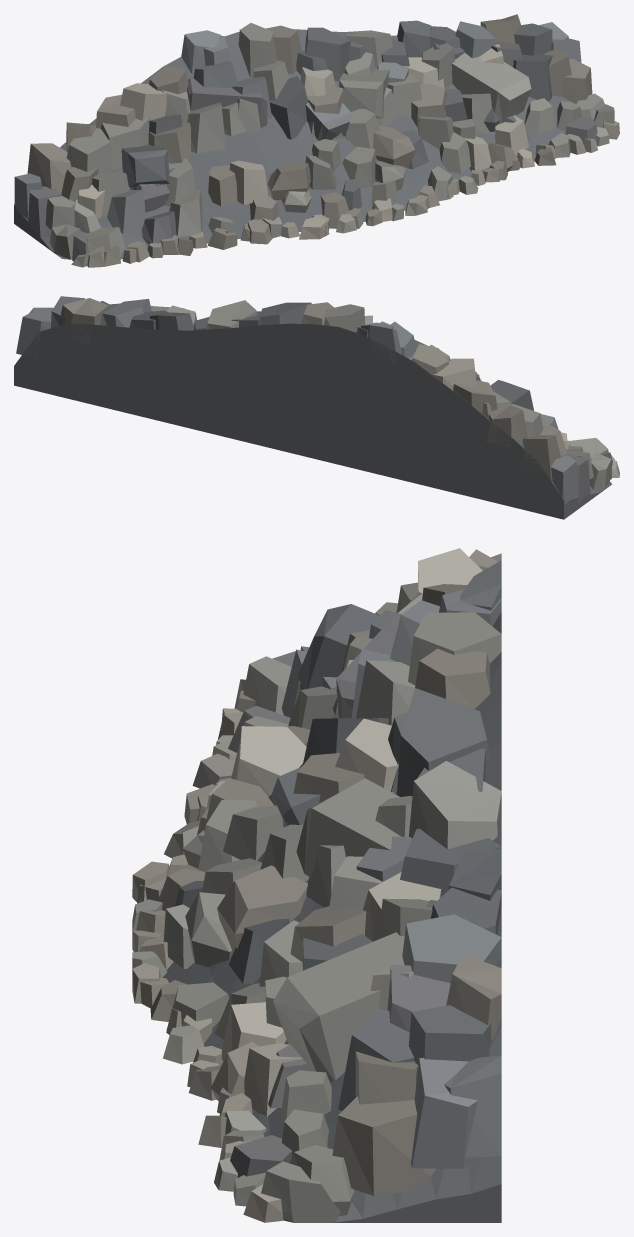
File: SM_LPD_Struct_RubbleHeapAgainst_01.fbx
3 renders of one model, top to bottom at view 1: azimuth 30°, elevation 25°; view 2: azimuth 150°, elevation 25°; view 3: azimuth 270°, elevation 25°, orthographic. The views are drawn at different scales.
Parts seen in each view (by area): view 1: SM_LPD_Struct_RubbleHeapAgainst_01; view 2: SM_LPD_Struct_RubbleHeapAgainst_01; view 3: SM_LPD_Struct_RubbleHeapAgainst_01.
Part boxes in pixels (box(x1,y1,x2,y2)): SM_LPD_Struct_RubbleHeapAgainst_01: box(14, 14, 619, 267); SM_LPD_Struct_RubbleHeapAgainst_01: box(14, 296, 619, 519); SM_LPD_Struct_RubbleHeapAgainst_01: box(132, 548, 501, 1222).
Bounding box in the file's own units: 4 × 1.03 × 1.17.
